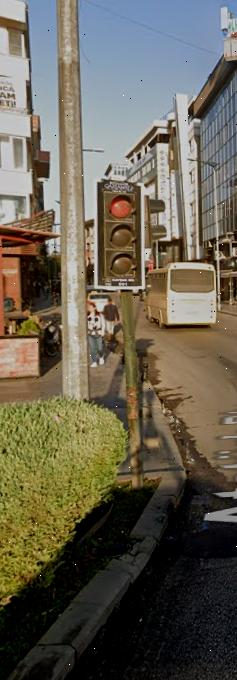redlight: (99, 177, 142, 291)
